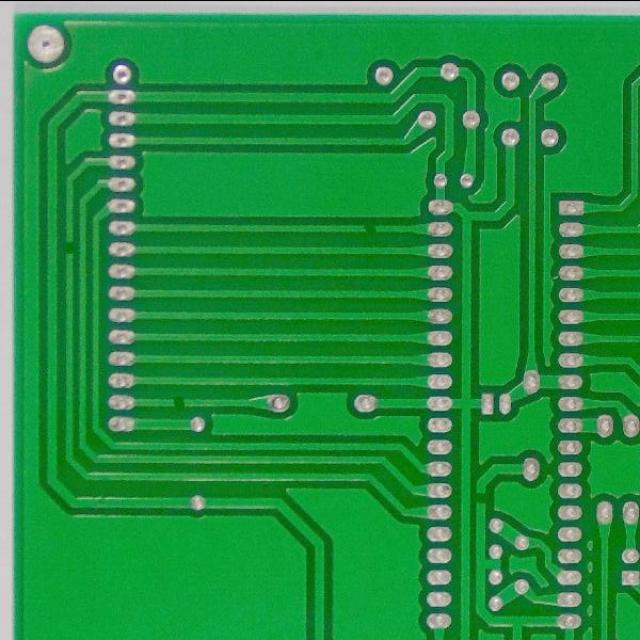open_circuit: (58, 235, 76, 260), (167, 392, 189, 412), (356, 221, 380, 237), (472, 487, 489, 508)
